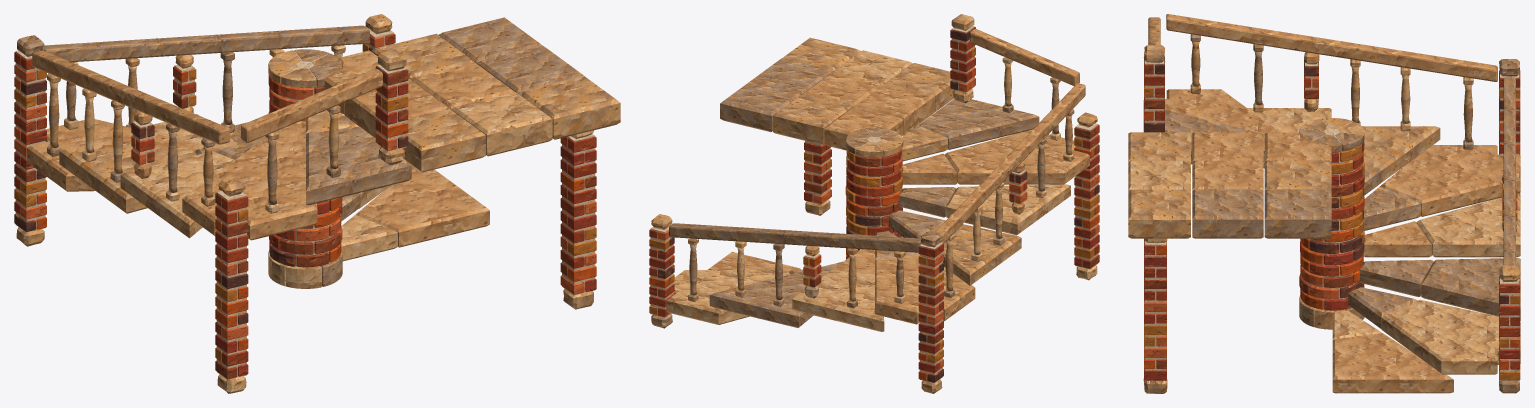
File: stairs_spiral_stacked__clay_brick.glb
The picture shows the model from 3 angles, left to right: view 1: azimuth 30°, elevation 25°; view 2: azimuth 150°, elevation 25°; view 3: azimuth 270°, elevation 25°; orthographic projection. The views are drawn at different scales.
Visible parts, largest first — view 1: model; view 2: model; view 3: model.
Boxes of the visible parts, box(x1,y1,x2,y2) form: model: box(14, 14, 620, 393); model: box(649, 14, 1099, 393); model: box(1128, 14, 1520, 393).
Bounding box in the file's own units: 3.82 × 2.81 × 3.82.
Materials: 13 (13 with a texture image).
